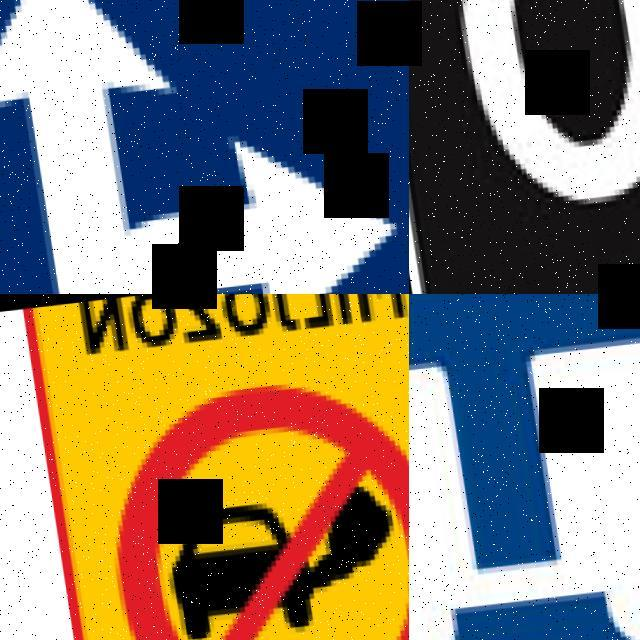100: (409, 0, 640, 294)
69: (409, 294, 640, 640)
70: (26, 294, 409, 640)
Turn left or straight ahead: (0, 0, 409, 294)
